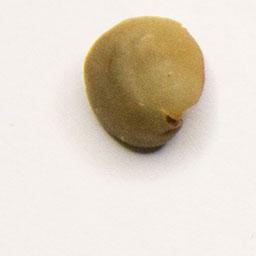defect: (78, 14, 208, 156)
